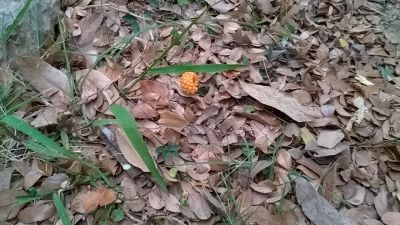eggs: (178, 70, 201, 96)
